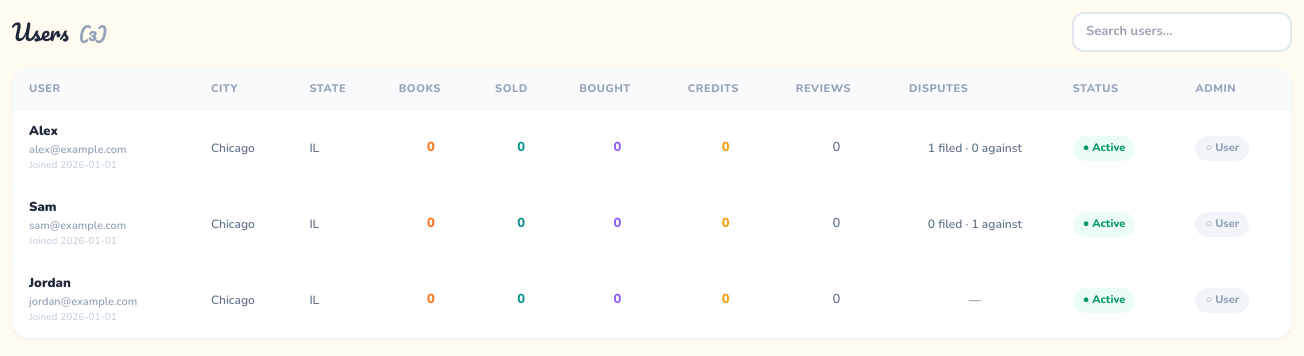
Test case: UsersTab › toggling status inside a row updates status but does not open the card
What coordinates should you click on to do the following:
click the button "● Active" in the row of "alex@example.com"
I would click on:
 (1104, 149)
Its box is [1073,136,1135,161].
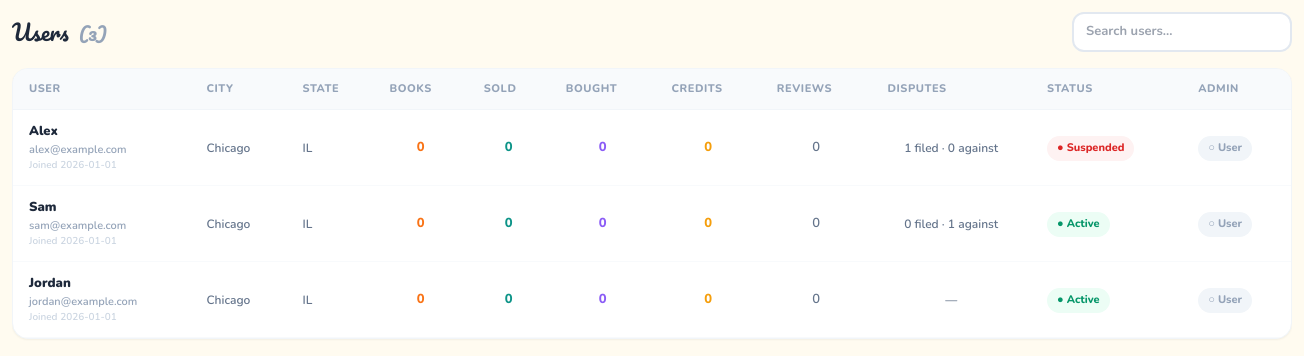
Now the button "● Suspended" is shown, box [1047,136,1134,161]
